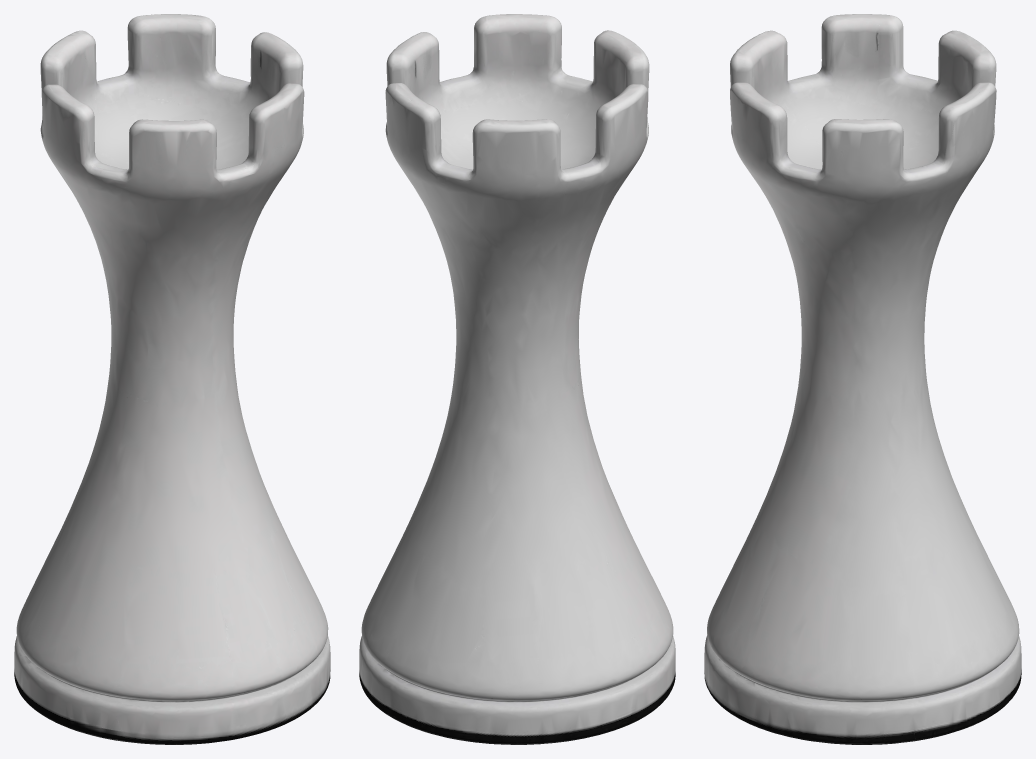
The model's file is rook-white-hd.glb.
3 renders of one model, left to right at view 1: azimuth 30°, elevation 25°; view 2: azimuth 150°, elevation 25°; view 3: azimuth 270°, elevation 25°, orthographic.
Bounding box in the file's own units: 0.5864 × 1.25 × 0.5869.
1 material, 1 textured.
